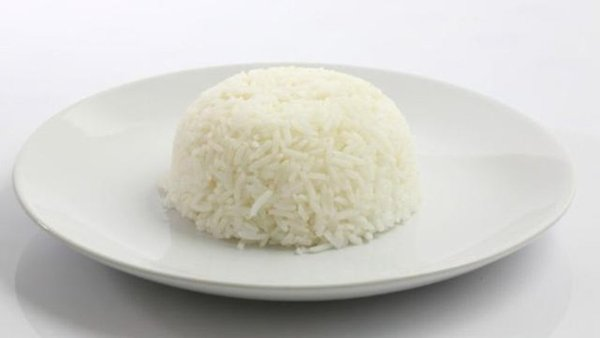Nasi Putih: (133, 37, 436, 263)
